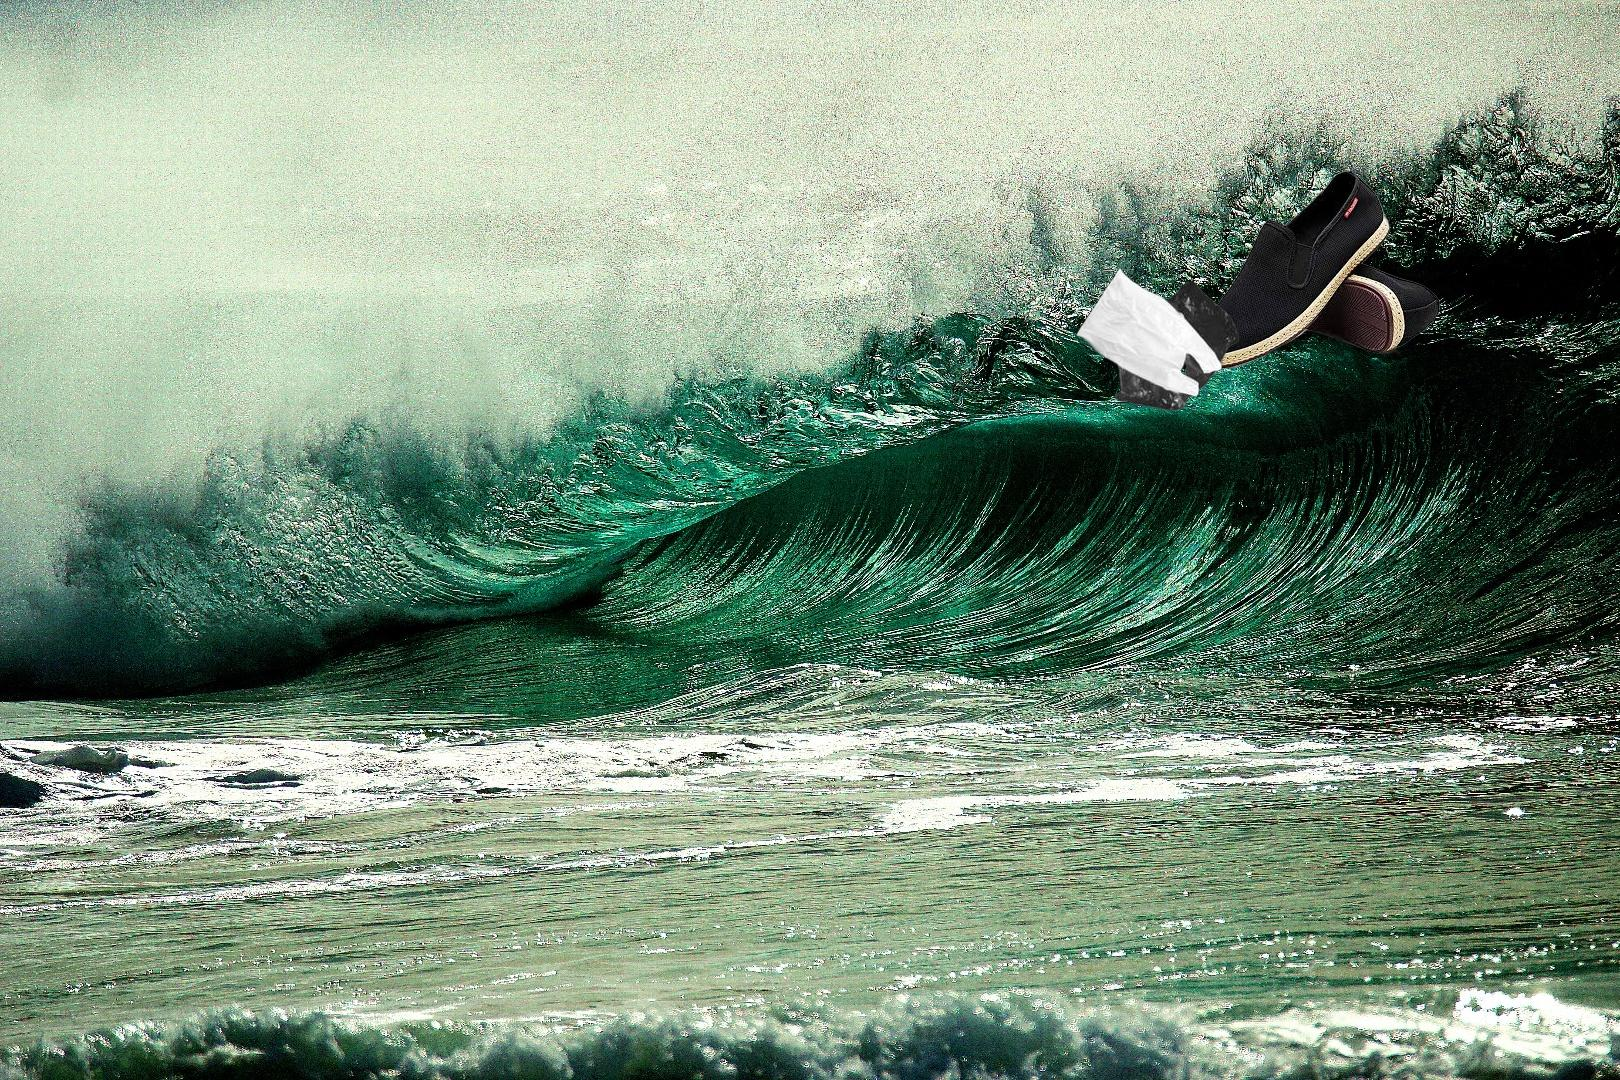plastic-bag: (1073, 265, 1242, 412)
shoes: (1190, 170, 1442, 370)
